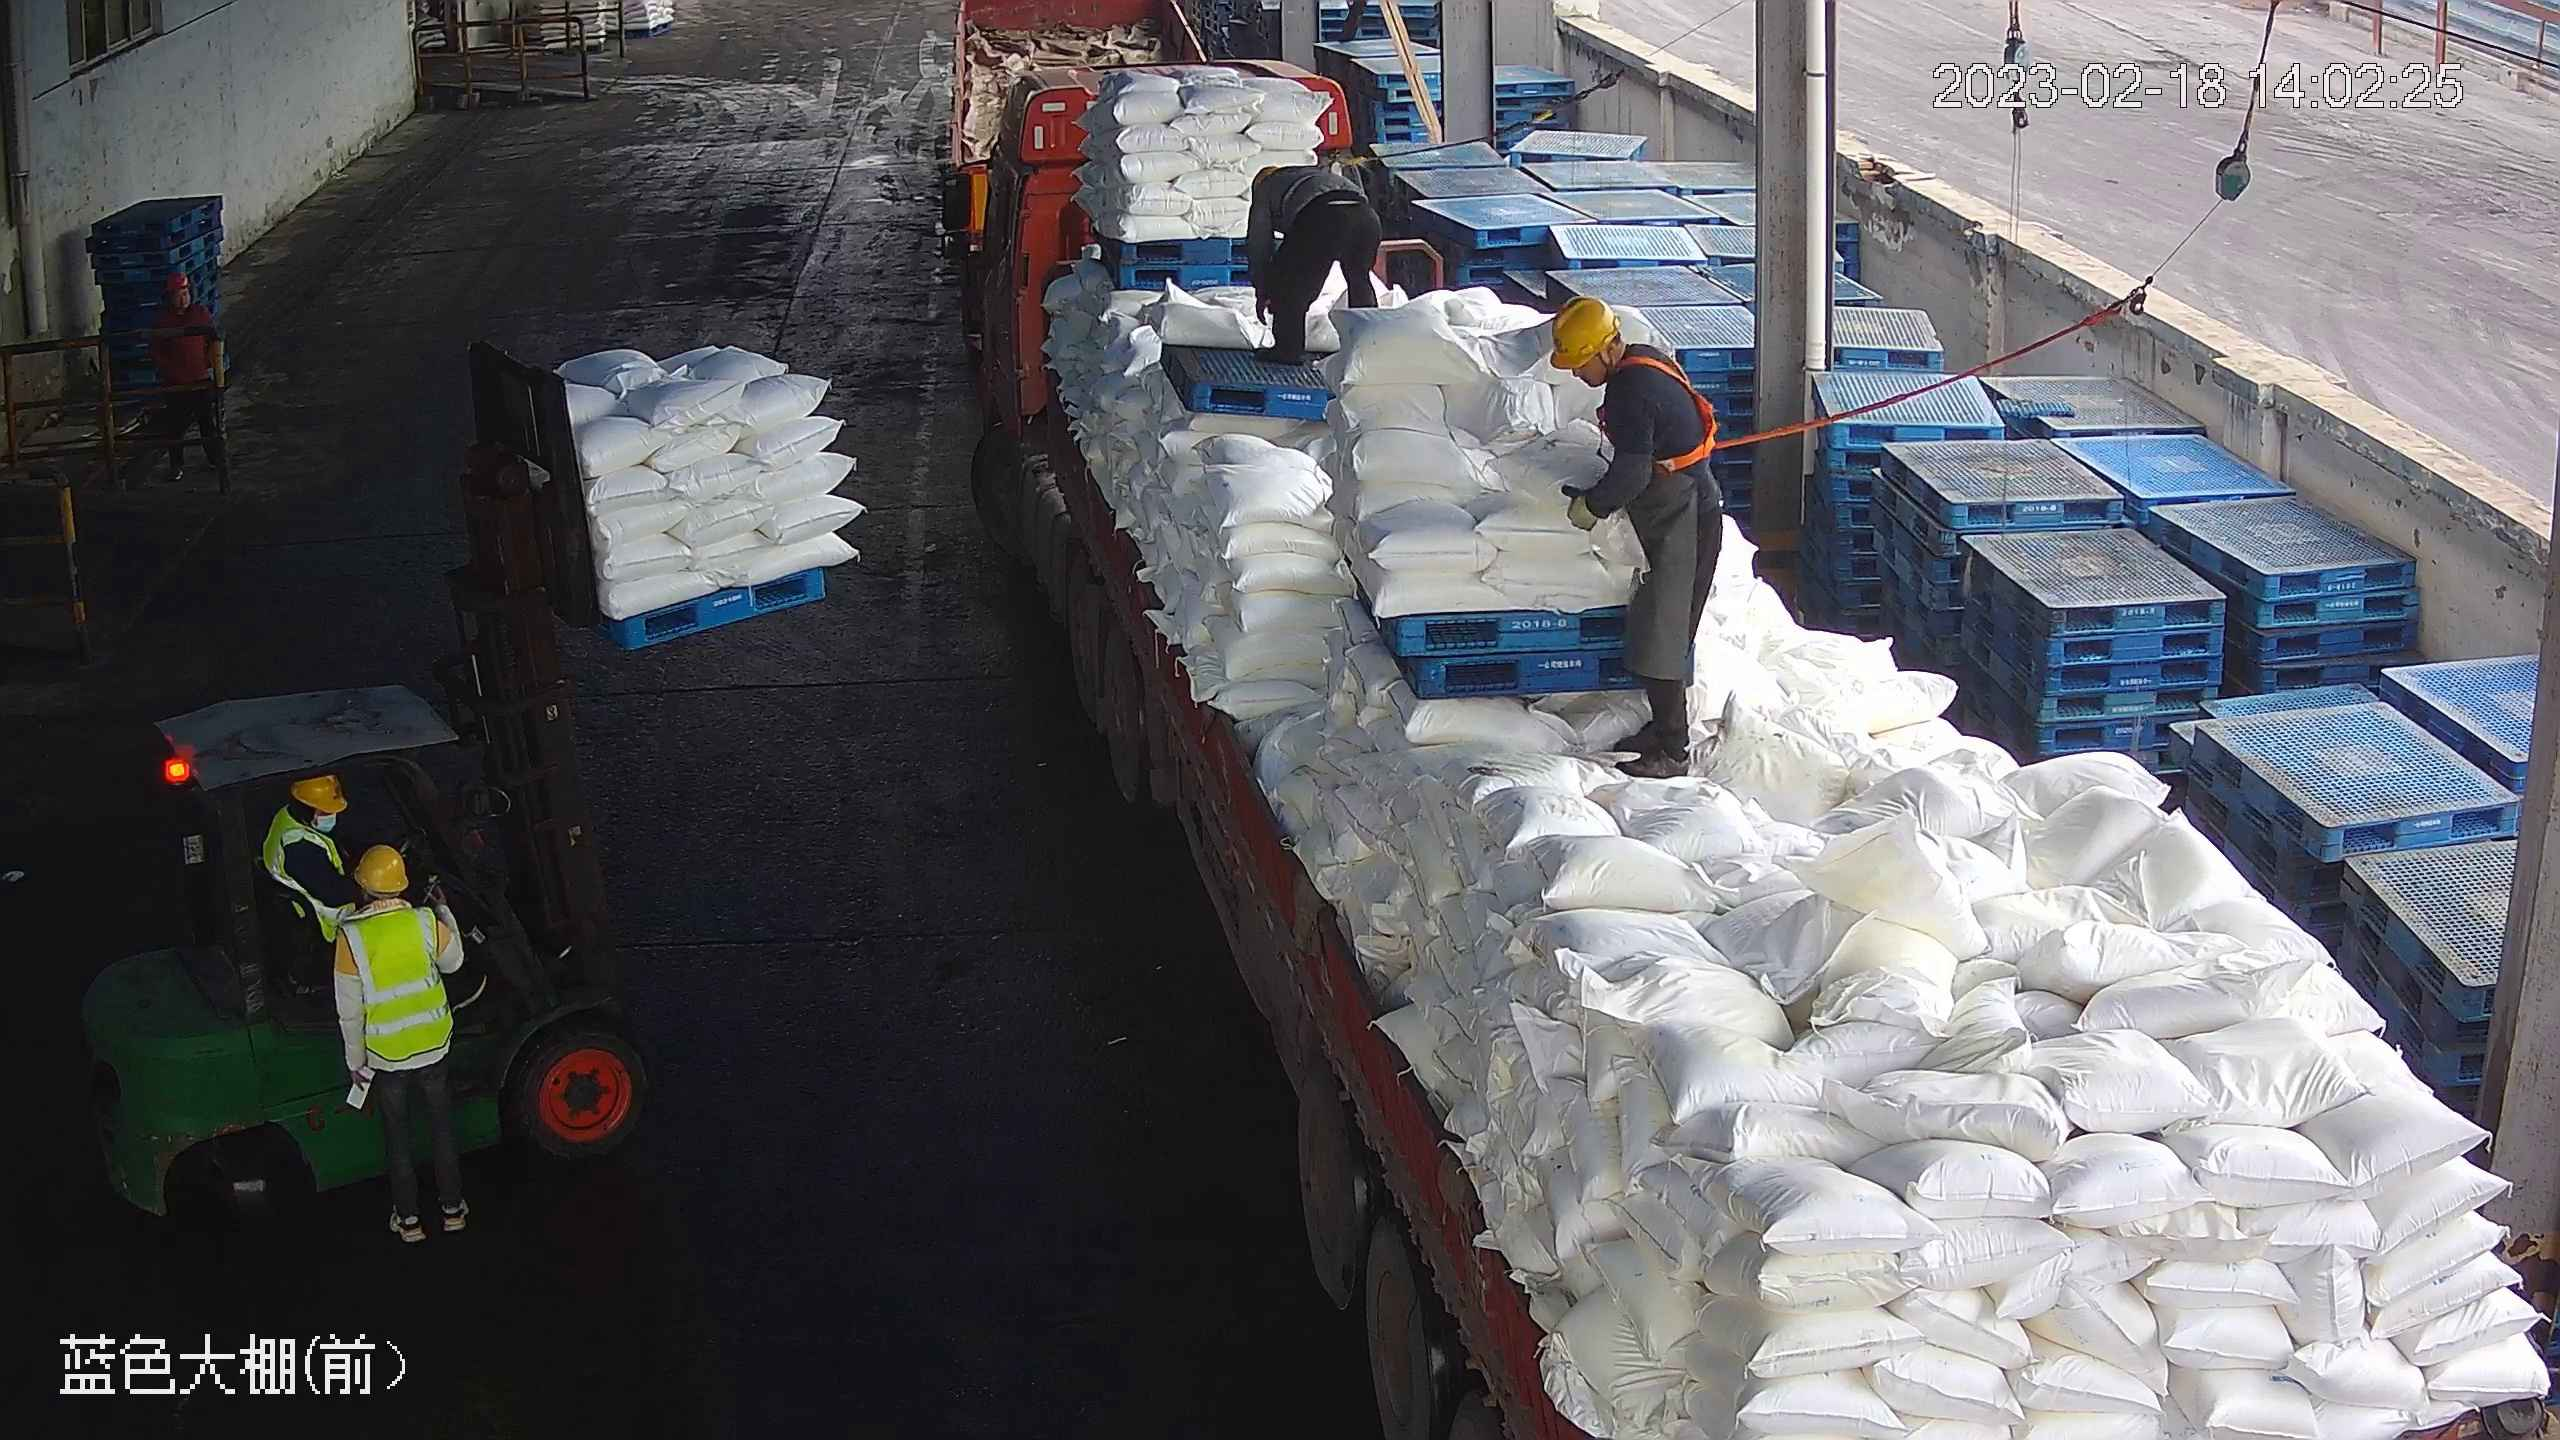belt: (1614, 342, 1735, 481), (1306, 150, 1368, 206)
head: (1548, 294, 1701, 428), (331, 840, 460, 972), (264, 771, 350, 868), (157, 270, 218, 331)
helmet: (1549, 294, 1619, 368), (352, 843, 416, 895), (290, 773, 342, 810), (163, 271, 190, 290)
people: (1547, 292, 1728, 780), (334, 831, 478, 1252), (1240, 148, 1386, 360), (261, 769, 353, 961), (154, 262, 232, 492)
truck: (977, 156, 2555, 1440)
